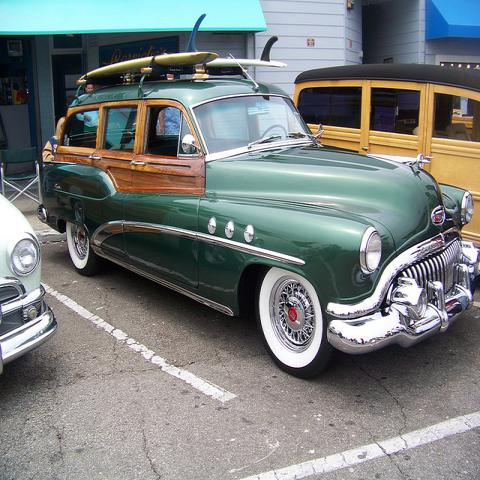car: (37, 51, 479, 382), (294, 71, 480, 250), (2, 190, 60, 375)
